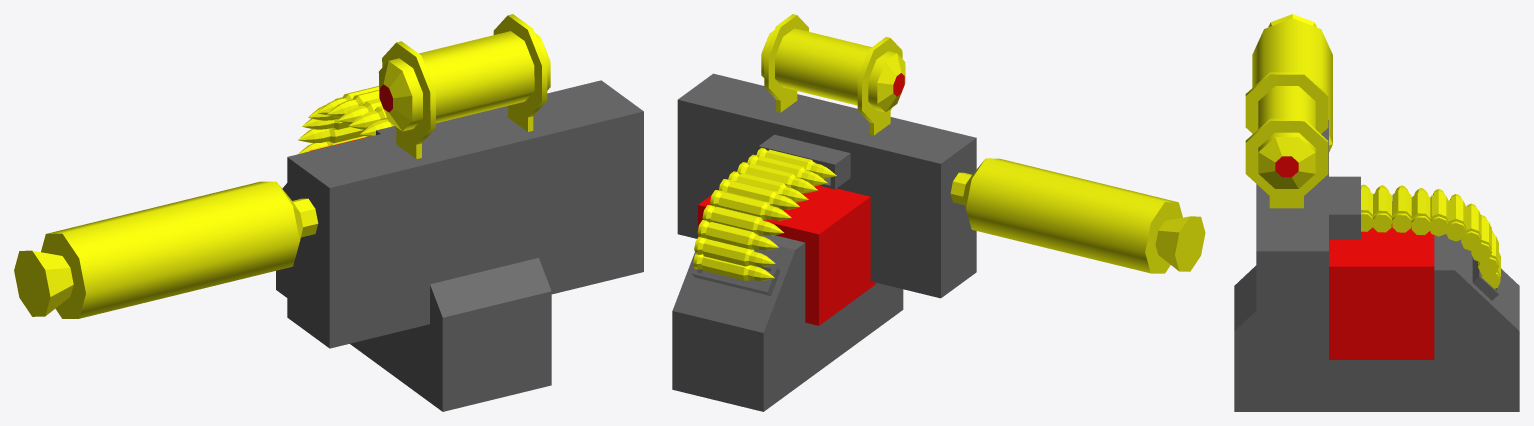
File: Waffe_2.FBX
The picture shows the model from 3 angles, left to right: view 1: azimuth 30°, elevation 25°; view 2: azimuth 150°, elevation 25°; view 3: azimuth 270°, elevation 25°; orthographic projection. The views are drawn at different scales.
Visible parts, largest first — view 1: Cylinder079; view 2: Cylinder079; view 3: Cylinder079.
Part boxes in pixels (<box>): Cylinder079: <box>14,14,643,411</box>; Cylinder079: <box>672,14,1205,411</box>; Cylinder079: <box>1234,14,1519,411</box>.
Bounding box in the file's own units: 58.36 × 32.22 × 28.55.
Materials: 1 (1 with a texture image).
